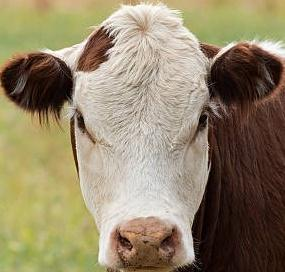muzzles: (92, 216, 200, 272)
